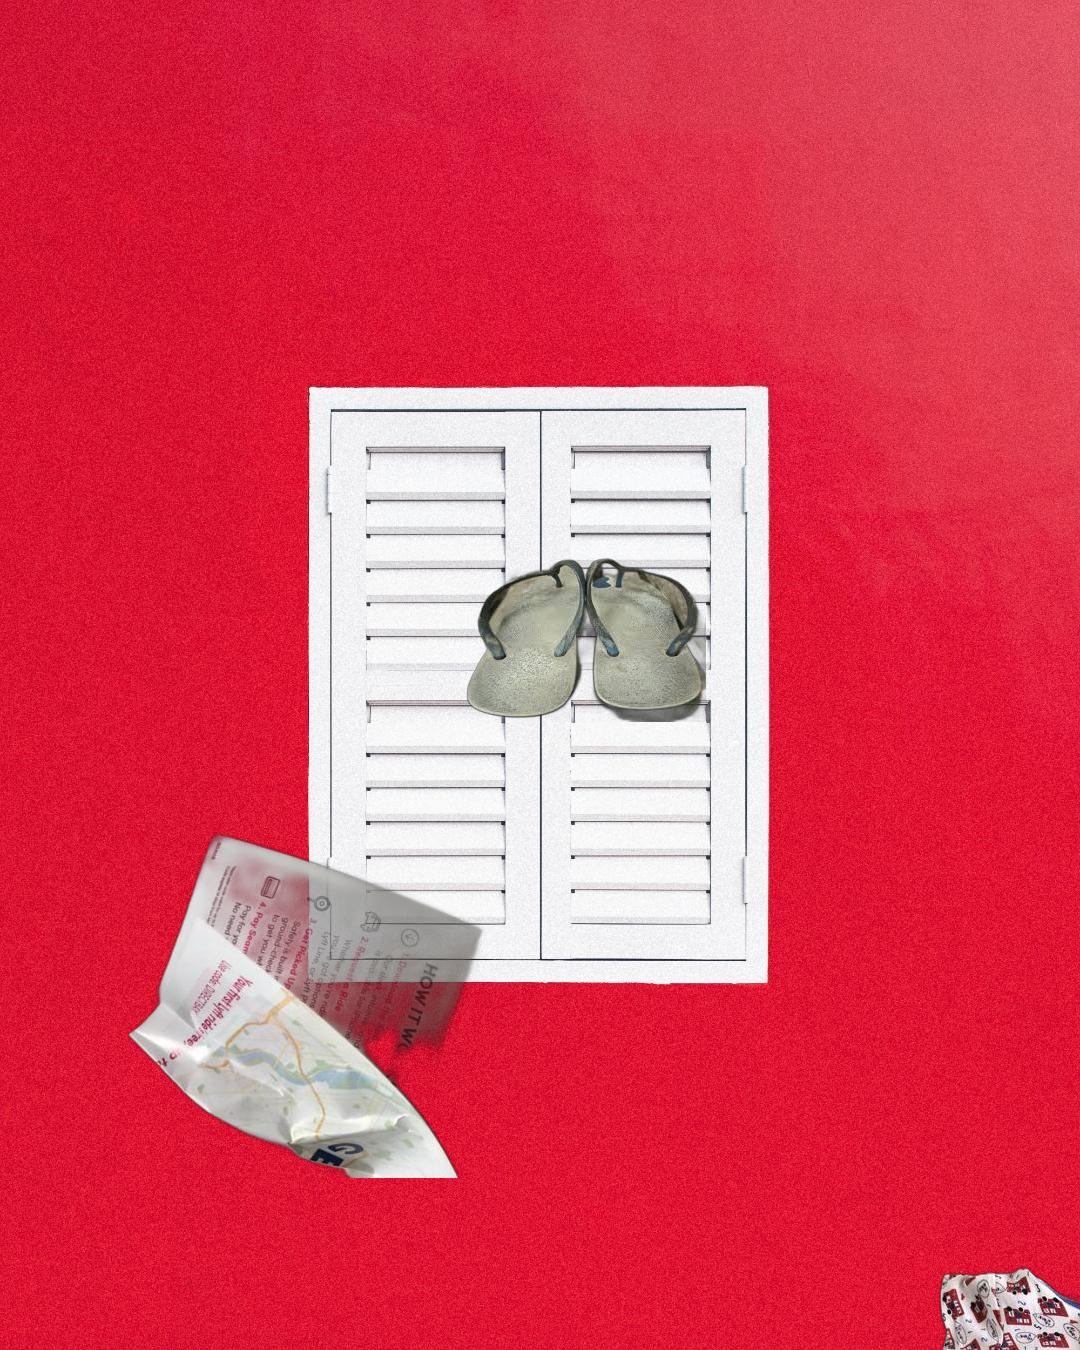clothes: (936, 1257, 1080, 1350)
paper: (125, 829, 487, 1178)
shoes: (464, 557, 706, 722)
